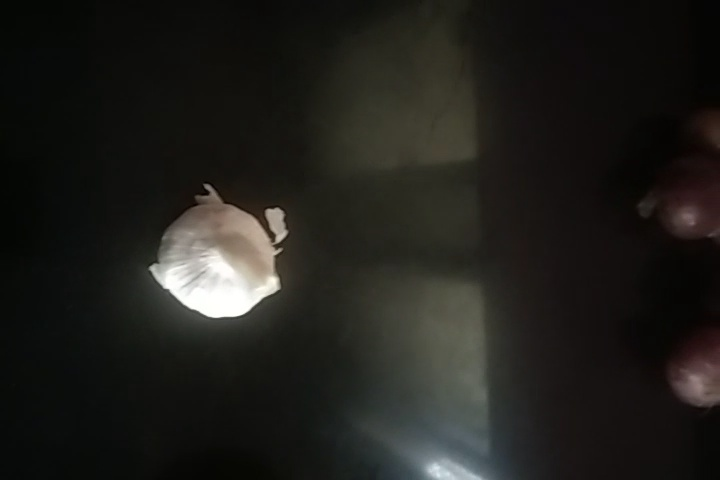garlic: (149, 193, 287, 318)
onion: (647, 150, 718, 250), (671, 327, 720, 417)
